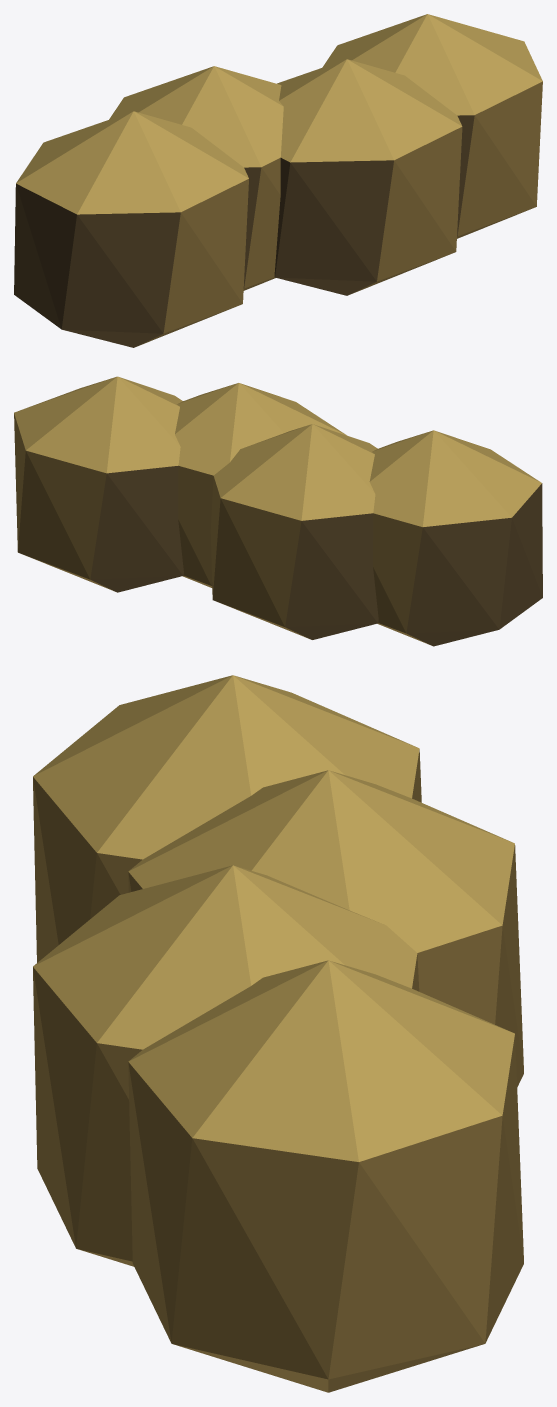
The model's file is TW_VEG_BUSH_LONG_A_LOD0.glb.
3 renders of one model, top to bottom at view 1: azimuth 30°, elevation 25°; view 2: azimuth 150°, elevation 25°; view 3: azimuth 270°, elevation 25°, orthographic. The views are drawn at different scales.
Parts seen in each view (by area): view 1: TW_VEG_BUSH_LONG_A_LOD0; view 2: TW_VEG_BUSH_LONG_A_LOD0; view 3: TW_VEG_BUSH_LONG_A_LOD0.
Part boxes in pixels (left/top/right/bottom): TW_VEG_BUSH_LONG_A_LOD0: left=14, top=14, right=542, bottom=347; TW_VEG_BUSH_LONG_A_LOD0: left=14, top=376, right=542, bottom=646; TW_VEG_BUSH_LONG_A_LOD0: left=33, top=675, right=523, bottom=1392.
Size of the model in its own units: 1.63 by 0.7 by 0.7208.
Materials: 1 (1 with a texture image).
